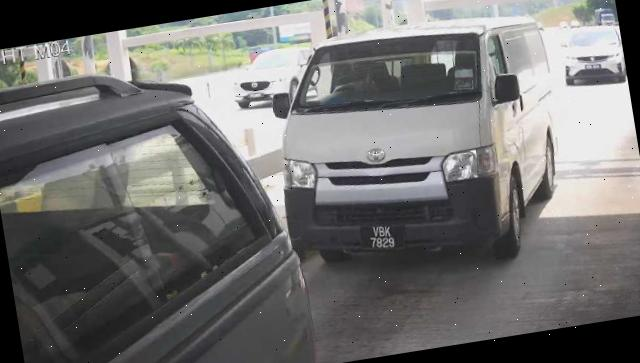License_Plate: (365, 218, 405, 256)
van: (263, 4, 579, 293)
